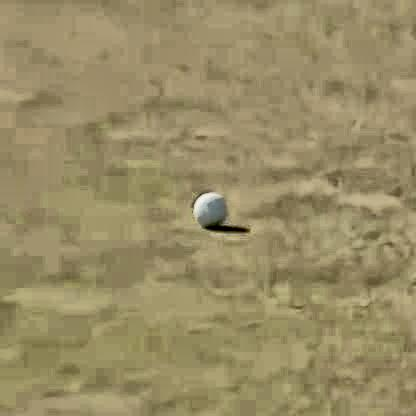golfball: (189, 182, 225, 224)
